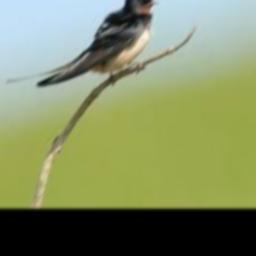Swallow: (6, 0, 157, 88)
